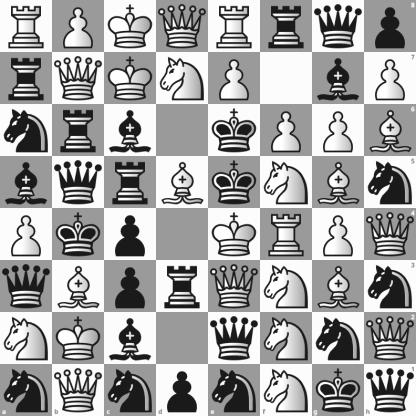B: (364, 104, 416, 156), (53, 261, 104, 312), (157, 157, 208, 208), (313, 157, 364, 208), (313, 261, 364, 312)
K: (53, 313, 104, 364), (105, 1, 156, 52), (105, 53, 156, 104), (209, 209, 260, 260)
N: (260, 364, 312, 416), (1, 313, 52, 364), (157, 53, 208, 104), (261, 157, 312, 208), (261, 261, 312, 312), (261, 313, 312, 364)
P: (364, 52, 416, 104), (1, 209, 52, 260), (53, 1, 104, 52), (209, 53, 260, 104), (261, 105, 312, 156), (313, 105, 364, 156), (313, 209, 364, 260)
Q: (52, 364, 104, 416), (364, 312, 416, 364), (364, 209, 416, 260), (53, 53, 104, 104), (157, 1, 208, 52), (209, 261, 260, 312)
R: (1, 1, 52, 52), (209, 1, 260, 52), (261, 209, 312, 260)
b: (1, 157, 52, 208), (105, 105, 156, 156), (105, 313, 156, 364), (313, 53, 364, 104)
board: (0, 0, 415, 415)
k: (312, 364, 364, 416), (53, 209, 104, 260), (209, 105, 260, 156), (209, 157, 260, 208)
n: (364, 156, 416, 209), (0, 364, 52, 416), (104, 364, 156, 416), (364, 260, 416, 312), (209, 364, 260, 416), (1, 105, 52, 156), (313, 313, 364, 364)
p: (156, 364, 209, 416), (364, 0, 416, 52), (105, 209, 156, 260), (105, 261, 156, 312)
q: (364, 364, 416, 416), (1, 261, 52, 312), (53, 157, 104, 208), (209, 313, 260, 364), (313, 1, 364, 52)
r: (1, 53, 52, 104), (53, 105, 104, 156), (105, 157, 156, 208), (157, 261, 208, 312), (261, 1, 312, 52)
